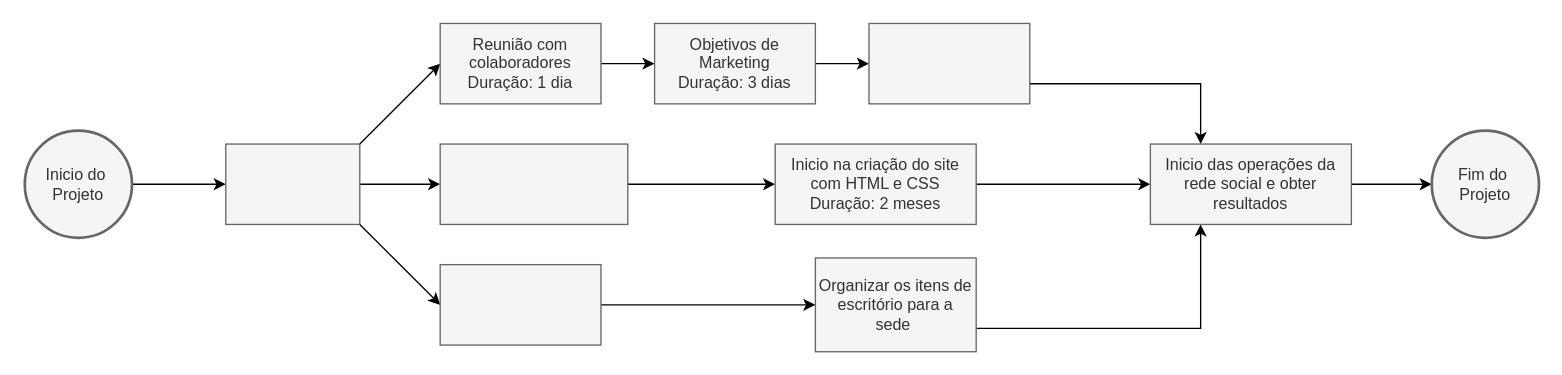
This 1562x375 diagram has some shape labels left out. The centre of each missing label's shape, as x and y in pixels:
"Alugar uma sala para a sede da empresa" goes at point (520, 304).
"Começo do banco de dados da rede social Duração: 3 dias" goes at point (533, 183).
"Definir o Objetivo da rede social Duração: 2 dias" goes at point (949, 63).
"Planejamento Duração: 4 dias" goes at point (292, 183).
